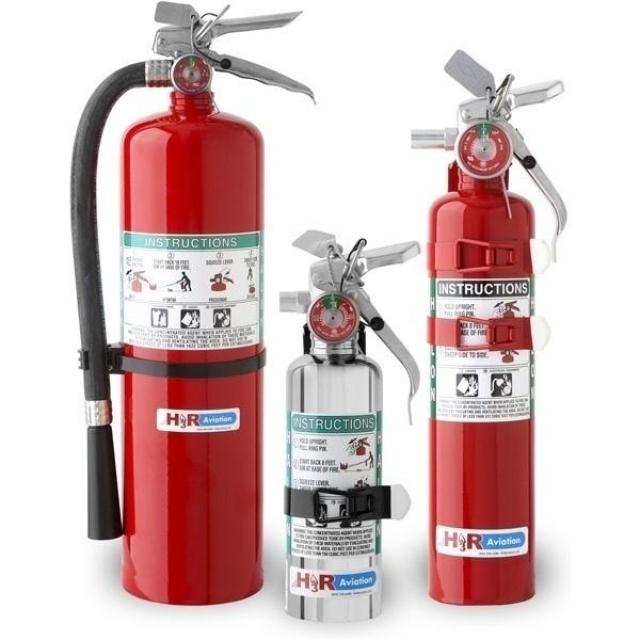fire_extinguisher: (60, 2, 320, 608), (406, 42, 574, 615), (272, 227, 432, 632)
